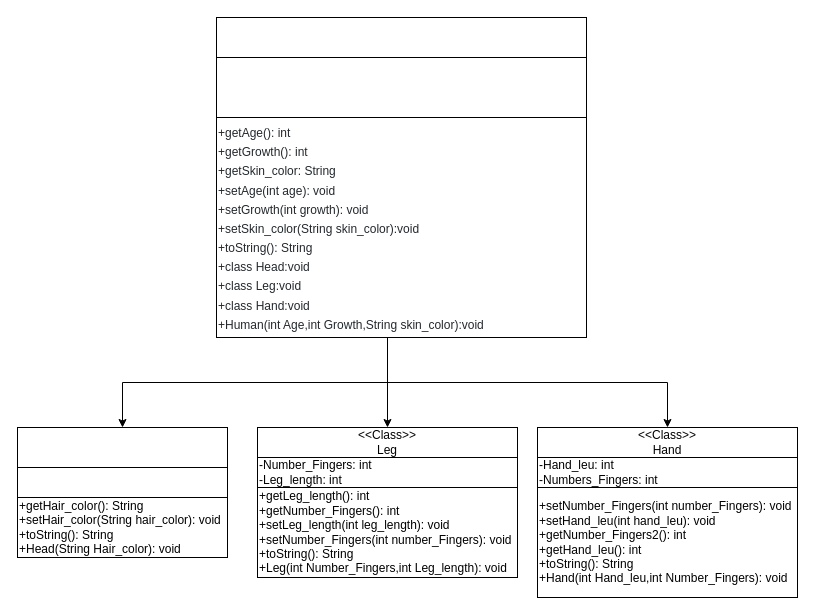
Image size: 815x615. Some labels were removed from this diagram. The box of each missing label's shape, as (x1, y1, x2, y2) in pixels:
- skin_color: String -Age: int -Growth int: (216, 56, 586, 118)
-Hair_color: String: (16, 466, 228, 498)
<<Class>> Head: (16, 426, 228, 468)
<<Сlass>> Human: (216, 16, 586, 58)
